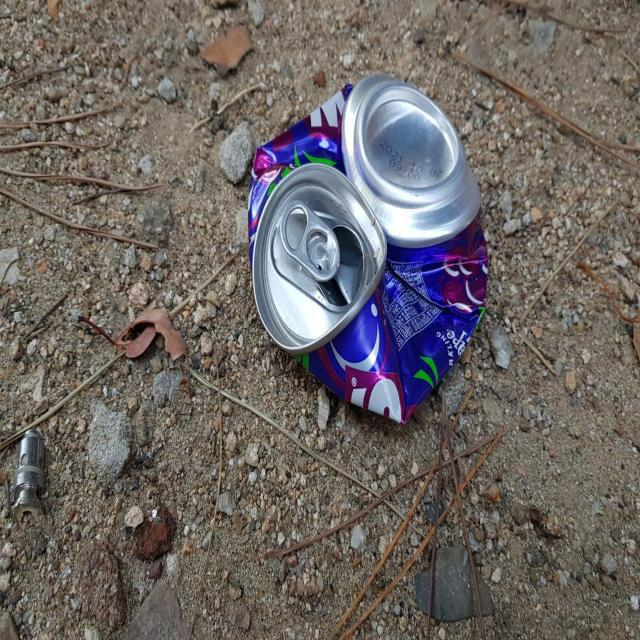can: (249, 72, 489, 422)
